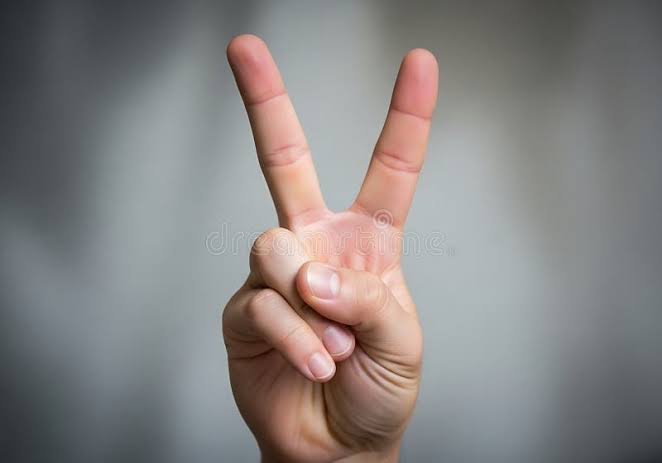peace_sign: (216, 15, 450, 443)
